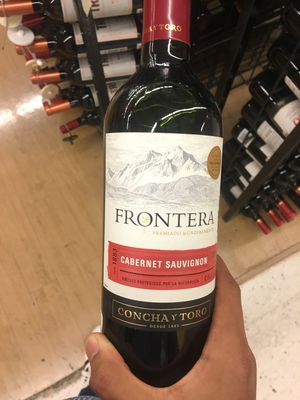frontera cabernet sauvignon: (92, 5, 232, 358)
